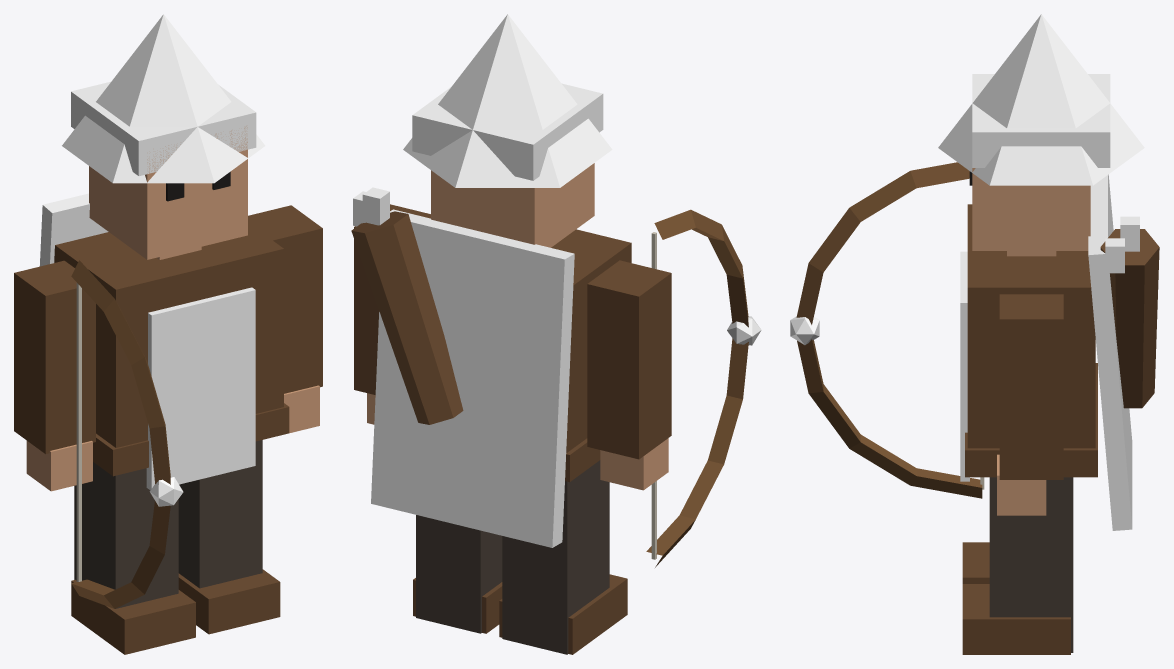
The model's file is ranger.glb.
3 views of the same model, side by side, from view 1: azimuth 30°, elevation 25°; view 2: azimuth 150°, elevation 25°; view 3: azimuth 270°, elevation 25° (orthographic). The views are drawn at different scales.
Visible parts, largest first — view 1: body, armL, weapon, armR; view 2: body, armL, weapon, armR; view 3: body, armR, weapon.
Part boxes in pixels (bbox=[...]): body: bbox=[39, 14, 289, 654]; armL: bbox=[14, 260, 95, 491]; weapon: bbox=[71, 260, 183, 608]; armR: bbox=[248, 205, 322, 433]; body: bbox=[351, 14, 631, 654]; armL: bbox=[587, 260, 671, 490]; weapon: bbox=[646, 209, 761, 567]; armR: bbox=[354, 204, 430, 424]; body: bbox=[938, 14, 1159, 654]; armR: bbox=[997, 294, 1063, 515]; weapon: bbox=[790, 162, 984, 498].
Bounding box in the file's own units: 0.66 × 1.35 × 0.7498.
